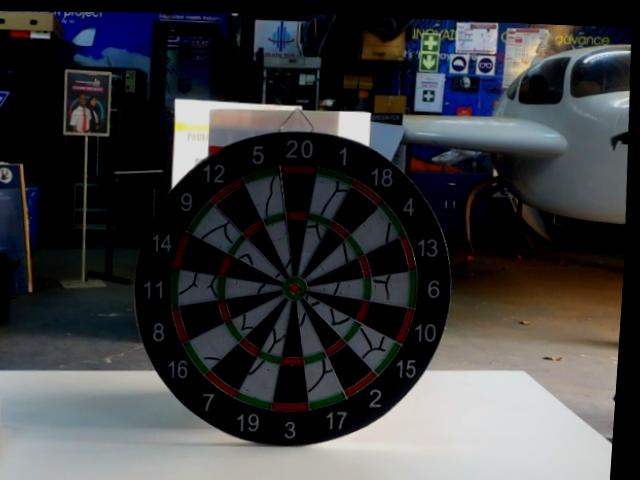bullseye: (286, 282, 305, 295)
